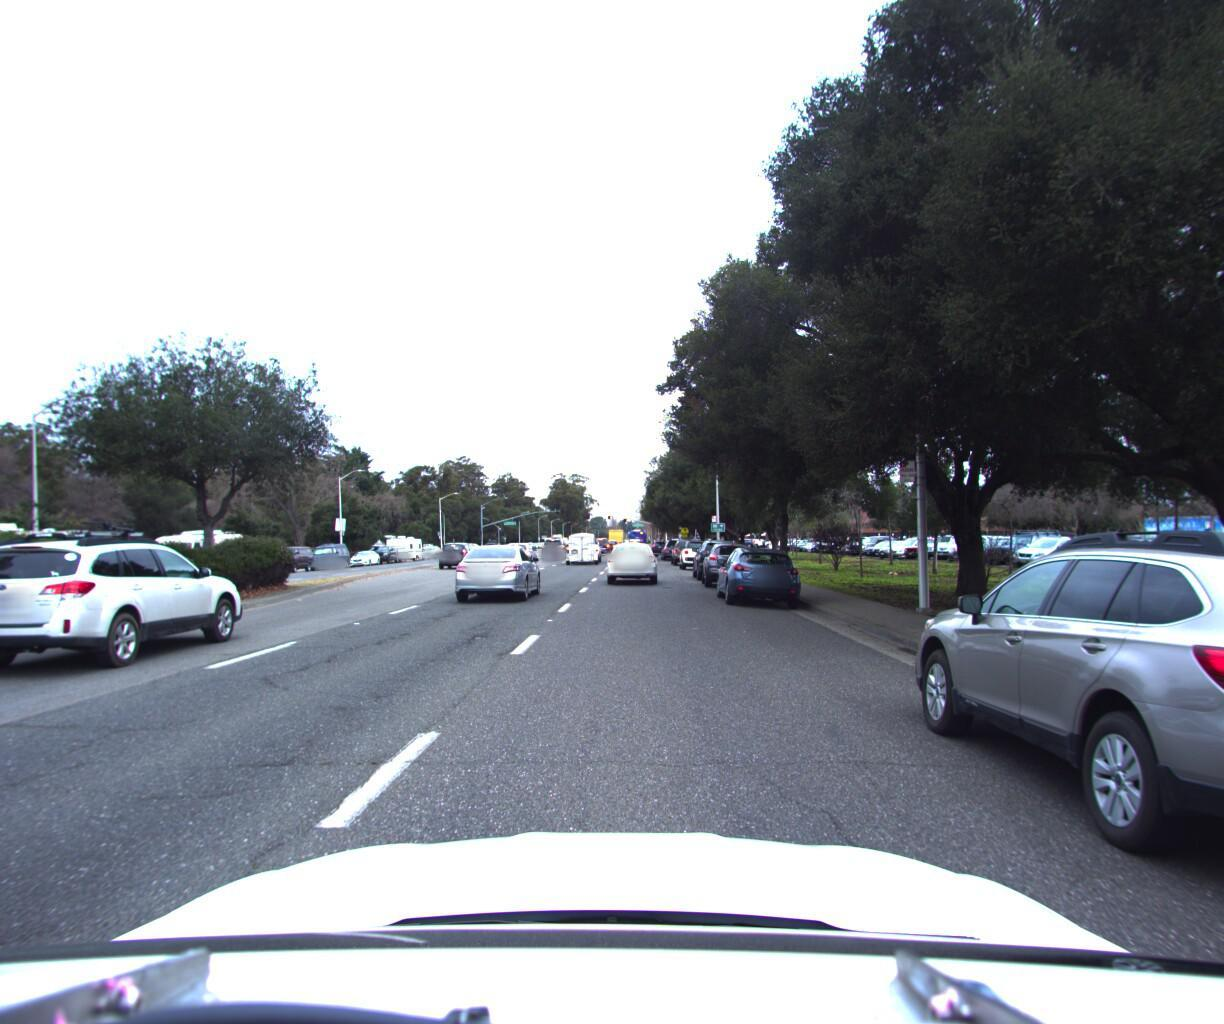car: (879, 509, 1224, 983), (0, 520, 248, 684), (449, 538, 544, 604), (712, 538, 801, 604), (699, 535, 755, 584), (604, 535, 657, 583), (690, 530, 745, 576), (262, 540, 317, 570), (567, 526, 604, 561), (305, 539, 352, 566), (436, 538, 479, 567), (674, 532, 713, 563), (668, 531, 701, 561), (502, 536, 538, 562), (365, 540, 400, 560), (346, 545, 382, 563), (540, 532, 567, 554), (657, 535, 685, 556), (591, 530, 612, 550)
other_vehicle: (0, 517, 111, 605), (143, 524, 251, 582)
